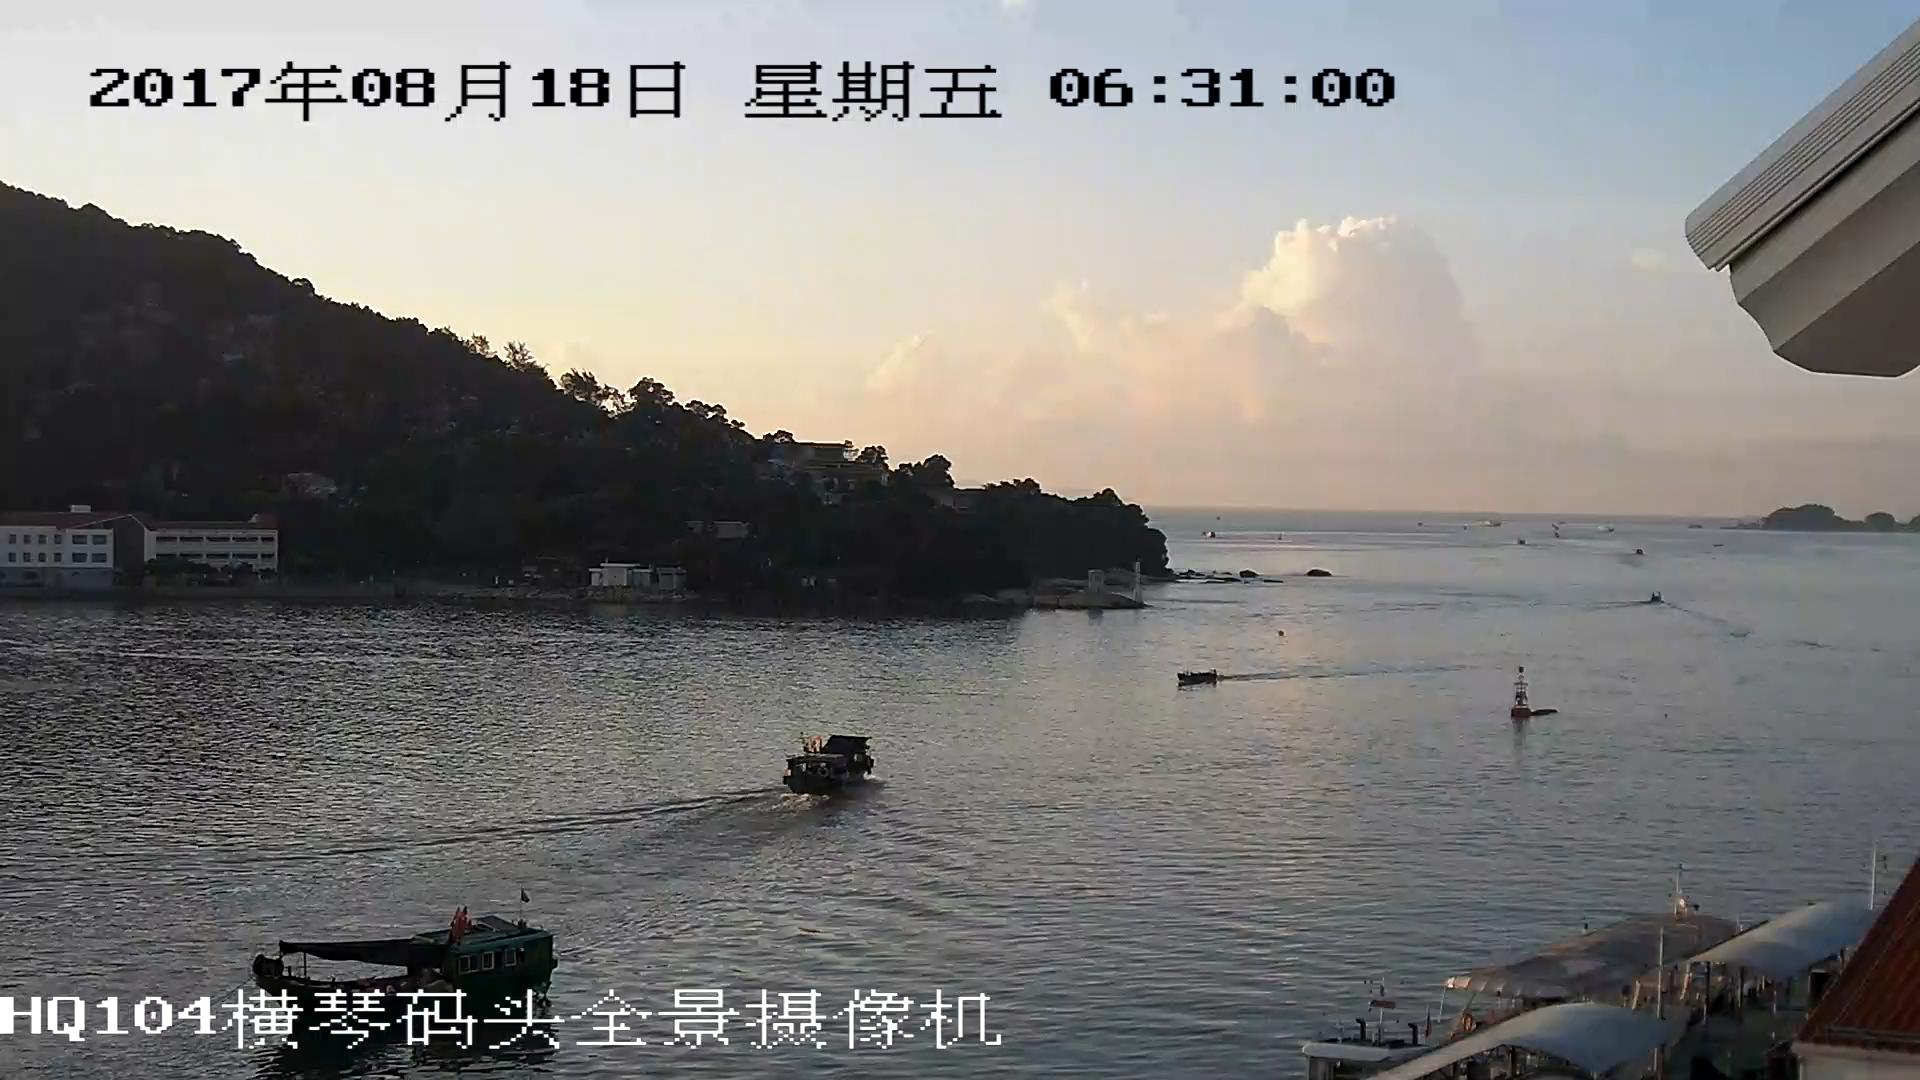fishing boat: (256, 922, 559, 986), (784, 733, 873, 794)
